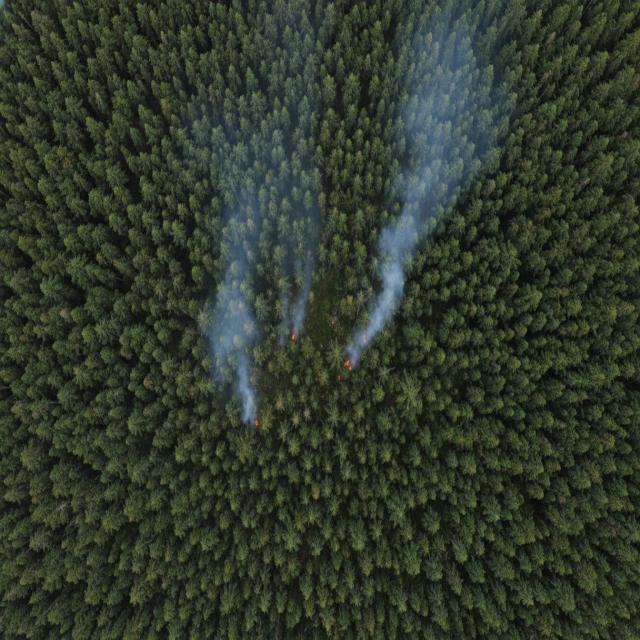wildfire: (278, 276, 316, 348), (338, 323, 376, 385), (236, 383, 268, 437)
